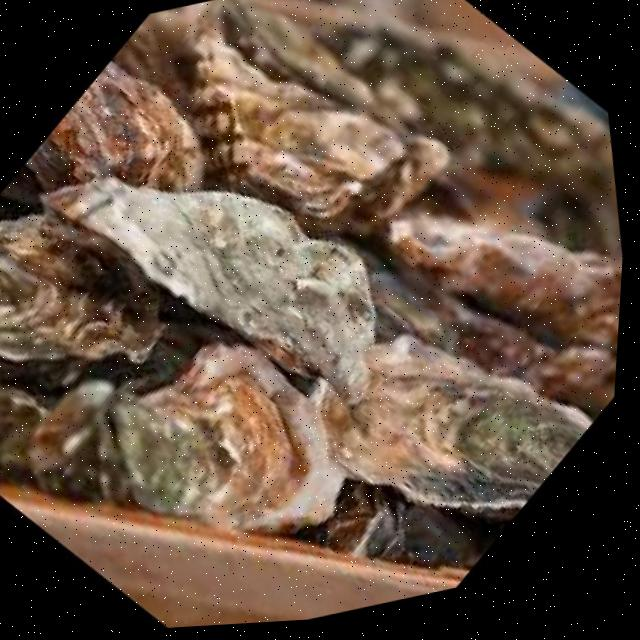Oyster-Closed: (186, 34, 450, 238), (388, 212, 622, 349)
Oyster-Indeterminate: (44, 177, 375, 374), (322, 335, 591, 520), (111, 344, 345, 533), (0, 213, 165, 363), (28, 63, 204, 191)
